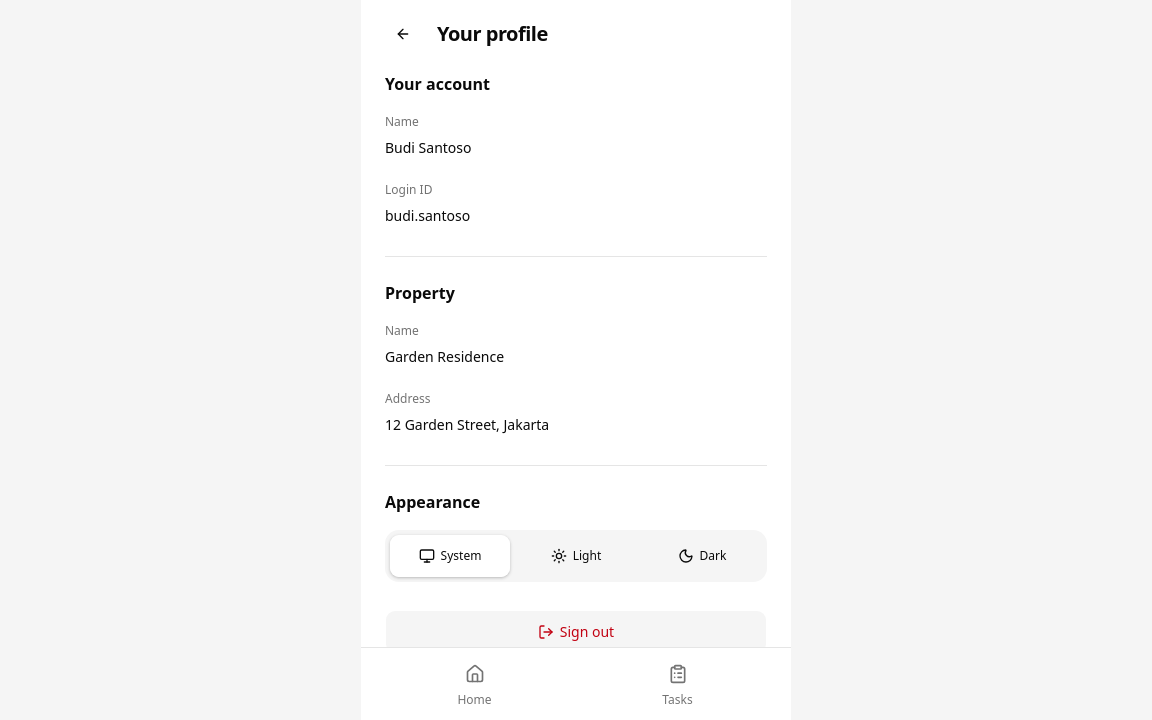
Test: retains the session and profile when sign out fails
Click the button "Sign out" at x=576, y=632, box x1=385 y1=610 x2=767 y2=654
(page scrolled)
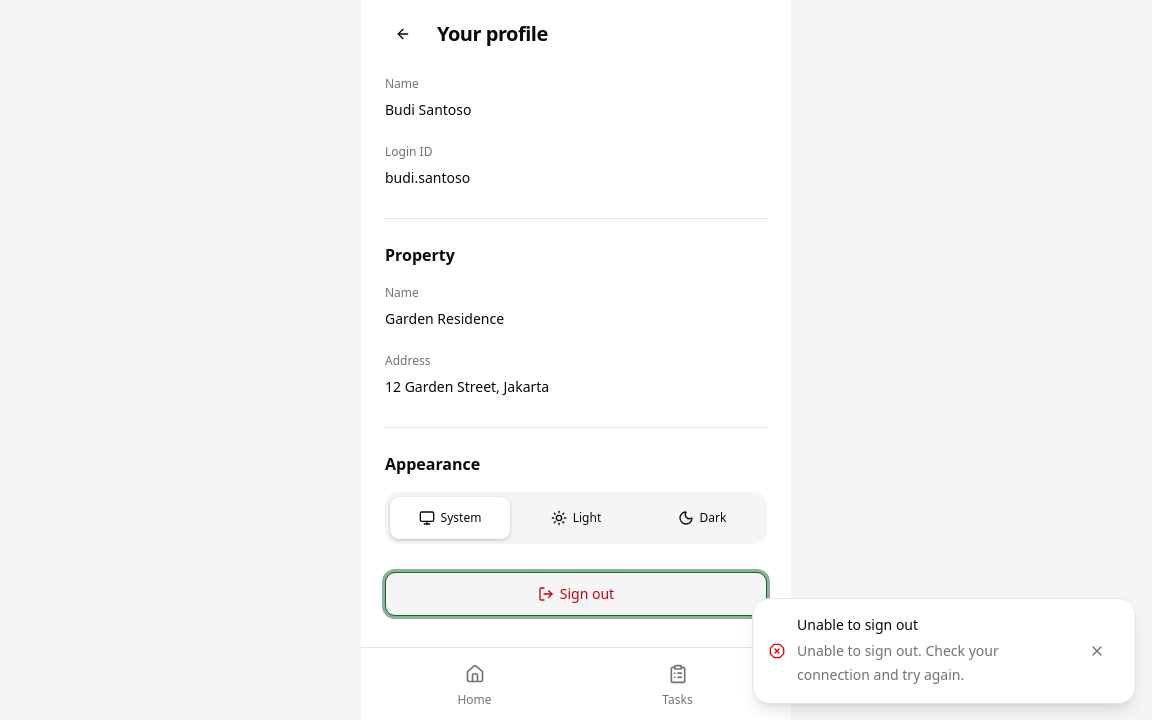
expect the heading "Your profile" is shown: met, box x1=437 y1=20 x2=548 y2=48
expect the text "Unable to sign out. Check your connection and try again." is shown: met, box x1=797 y1=641 x2=999 y2=684
